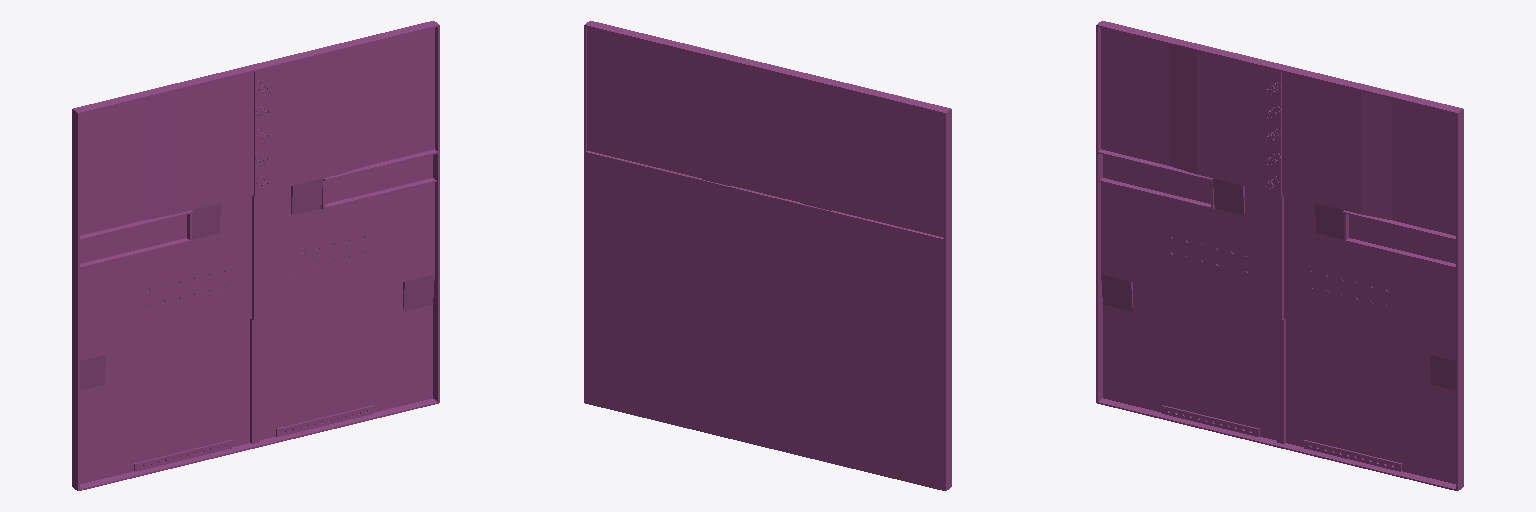
URDF robot description (arenaros):
<?xml version="1.0" encoding="utf-8"?>
<!-- This URDF was automatically created by SolidWorks to URDF Exporter! Originally created by [author] ([email redacted]) 
     Commit Version: 1.6.0-4-g7f85cfe  Build Version: 1.6.7995.38578
     For more information, please see http://wiki.ros.org/sw_urdf_exporter -->
<robot
  name="arenaros">
  <link
    name="base_link">
    <inertial>
      <origin
        xyz="-1.6661E-11 0.57057 0.10437"
        rpy="0 0 0" />
      <mass
        value="15277" />
      <inertia
        ixx="30477"
        ixy="-1.3056E-08"
        ixz="2.8403E-08"
        iyy="74705"
        iyz="-74.302"
        izz="105130" />
    </inertial>
    <visual>
      <origin
        xyz="0 0 0"
        rpy="0 0 0" />
      <geometry>
        <mesh
          filename="package://arenaros/meshes/base_link.STL" />
      </geometry>
      <material
        name="">
        <color
          rgba="0.63137 0.35294 0.58431 1" />
      </material>
    </visual>
    <collision>
      <origin
        xyz="0 0 0"
        rpy="0 0 0" />
      <geometry>
        <mesh
          filename="package://arenaros/meshes/base_link.STL" />
      </geometry>
    </collision>
  </link>
</robot>

--- What the picture shows (computed from the rendered views, not written in the file) ---
Views: 3 orthographic renders of the robot side by side, from view 1: azimuth 30°, elevation 25°; view 2: azimuth 150°, elevation 25°; view 3: azimuth 330°, elevation 25°.
Robot: arenaros — 1 links, 0 joints (none); root link base_link; default pose: all joints at 0.
Visible links, largest first — view 1: base_link; view 2: base_link; view 3: base_link.
Link boxes in pixels (bbox=[...]): base_link: bbox=[72, 21, 439, 490]; base_link: bbox=[584, 21, 951, 490]; base_link: bbox=[1096, 21, 1463, 490].
Bounding box of the posed robot: 12.1 × 0.7795 × 12.1 m (x, y, z).
Meshes: 1 distinct files referenced, 1 mesh visuals loaded (1 binary STL).
